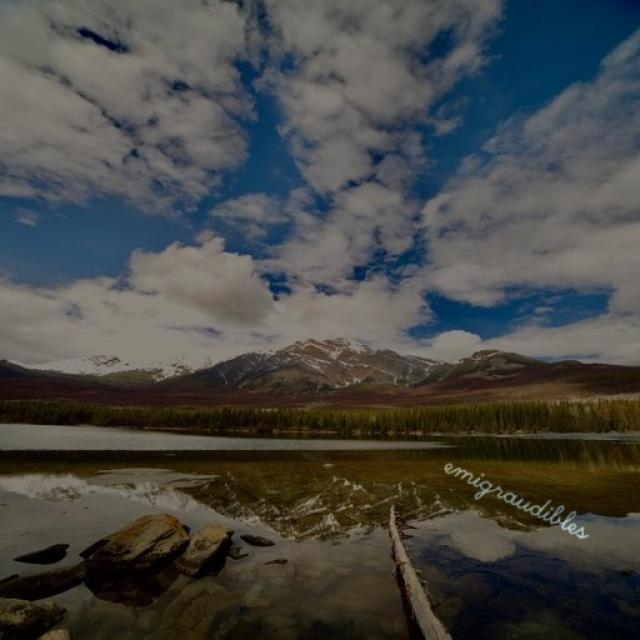watermark: (436, 448, 607, 544)
